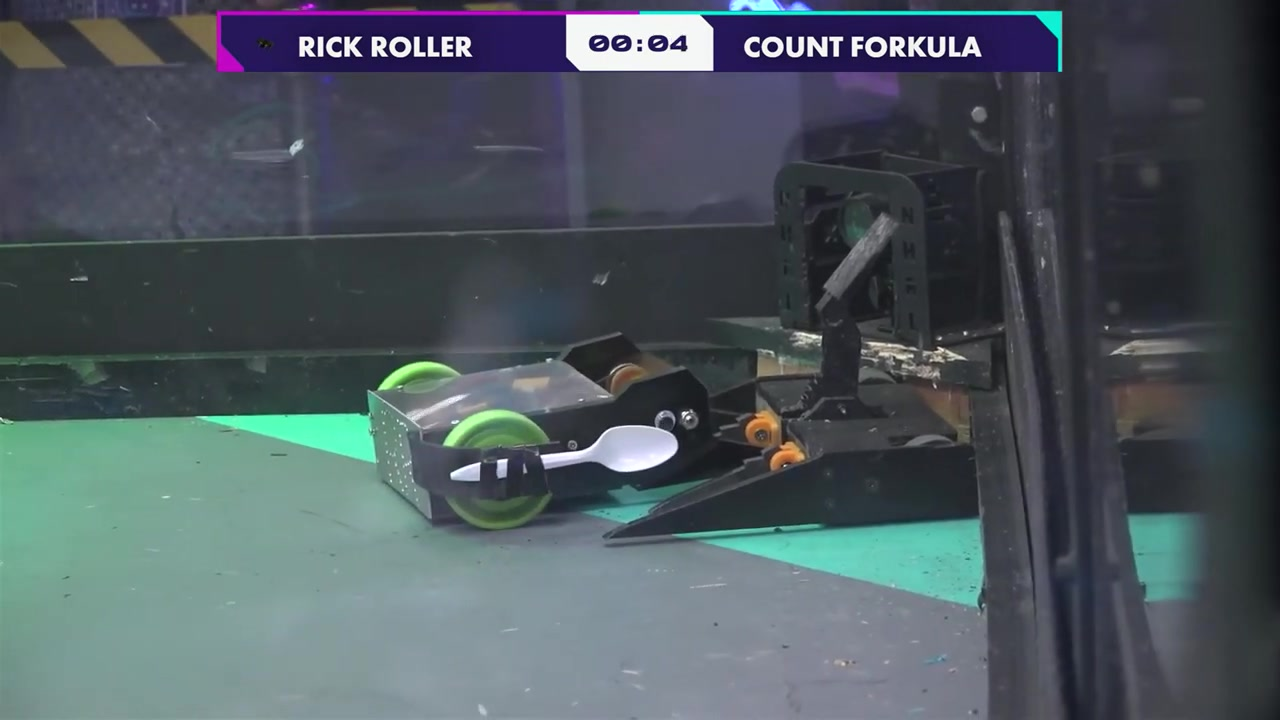combatbot: (366, 332, 713, 532), (733, 367, 983, 539)
